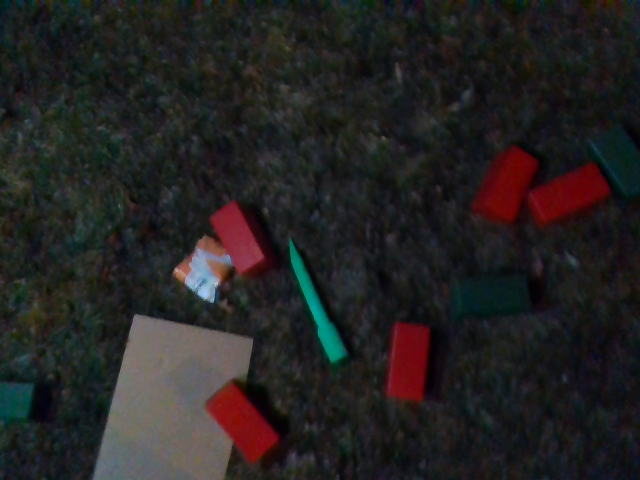Probe: (280, 239, 354, 376)
